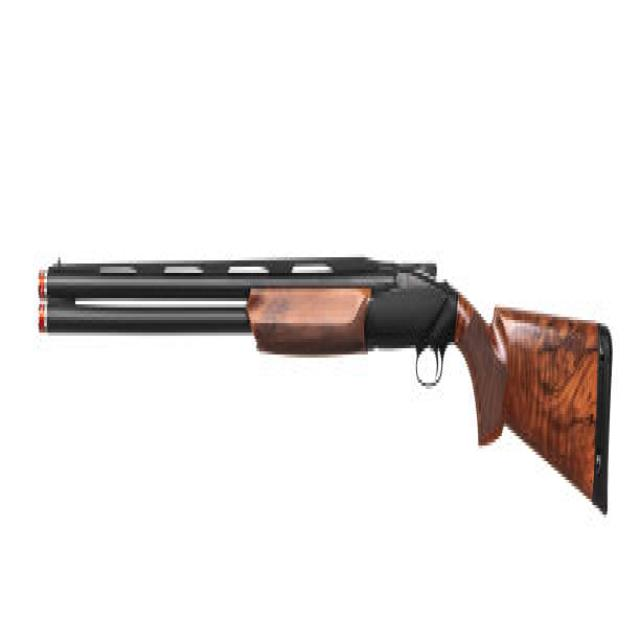rifle: (39, 245, 617, 537)
